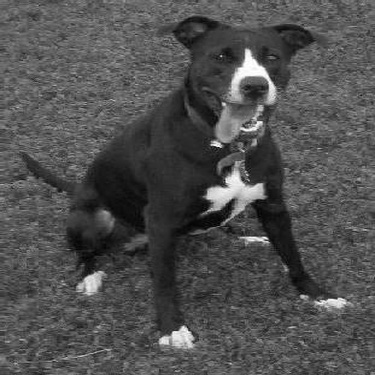dog: (13, 9, 357, 354)
